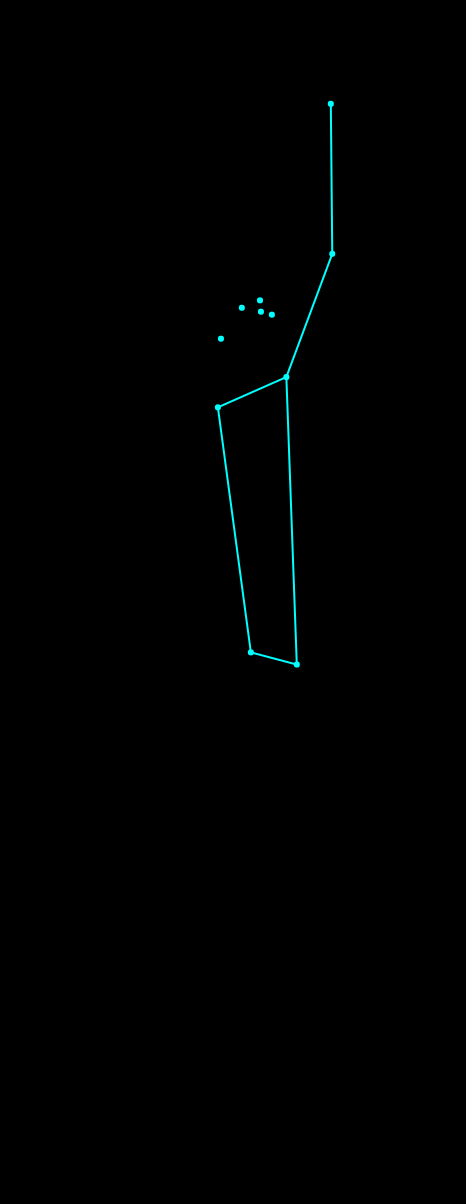warrior_1: (136, 77, 350, 700)
